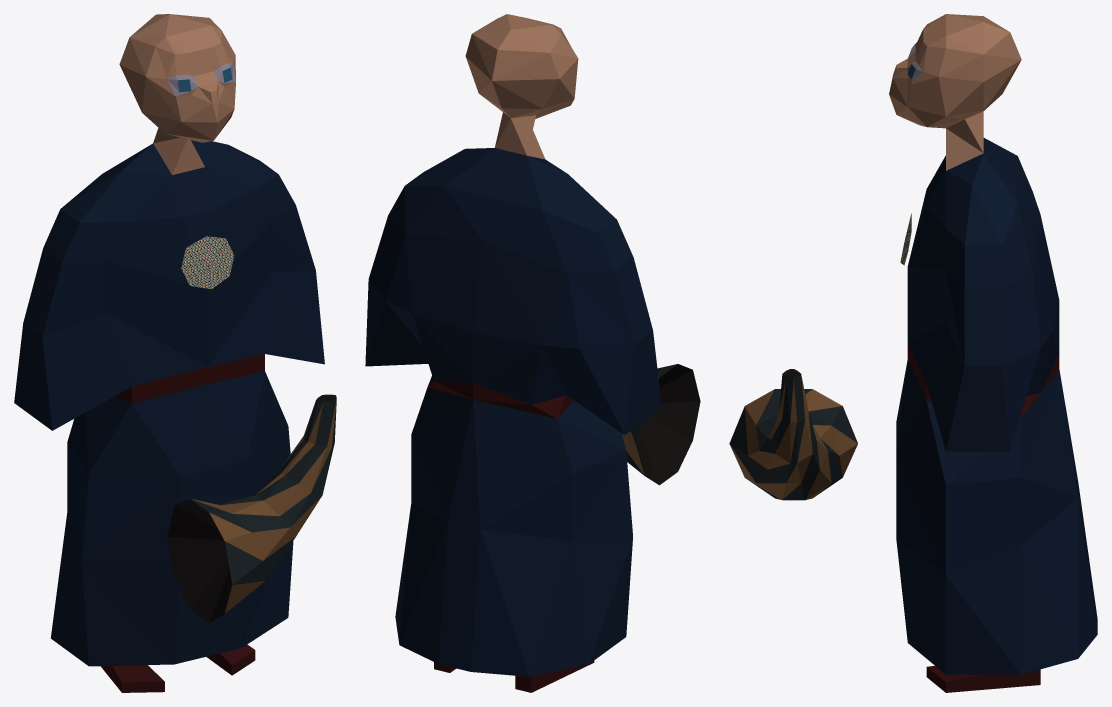
The model's file is BODY.HQR_19.obj.
3 renders of one model, left to right at view 1: azimuth 30°, elevation 25°; view 2: azimuth 150°, elevation 25°; view 3: azimuth 270°, elevation 25°, orthographic. The views are drawn at different scales.
Visible parts, largest first — view 1: lm2_model; view 2: lm2_model; view 3: lm2_model.
Boxes of the visible parts, x1,y1,x2,y2 form: lm2_model: [14, 14, 336, 692]; lm2_model: [365, 14, 700, 692]; lm2_model: [729, 14, 1097, 692].
Size of the model in its own units: 81.9 by 186 by 96.9.
9 materials, 1 textured.
